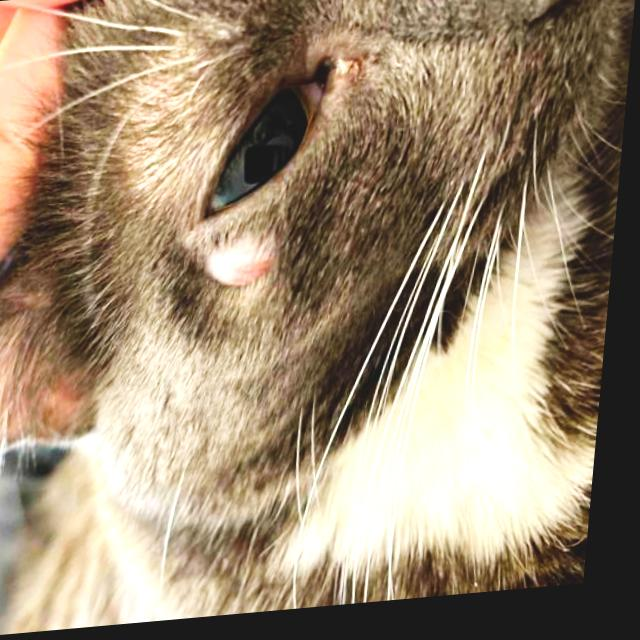lump_and_bump: (204, 231, 272, 284)
